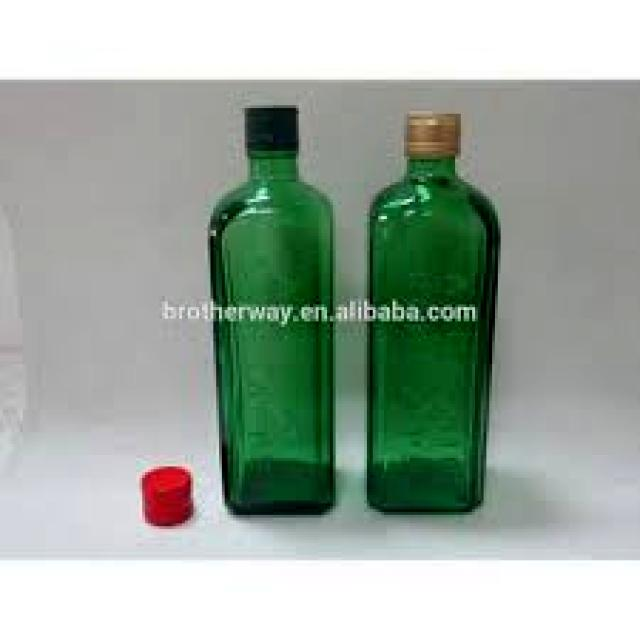Glass: (364, 108, 504, 514), (206, 104, 339, 517)
